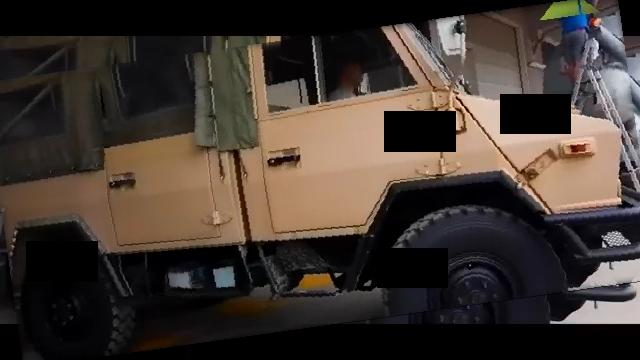MIL_HMMWV: (0, 14, 640, 346)
